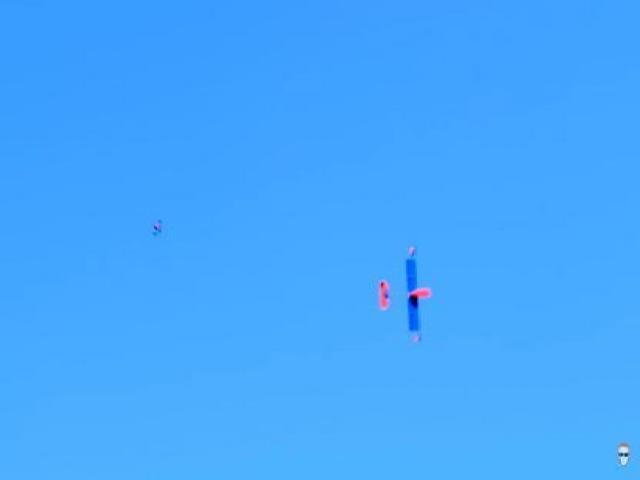uav: (370, 235, 445, 351)
